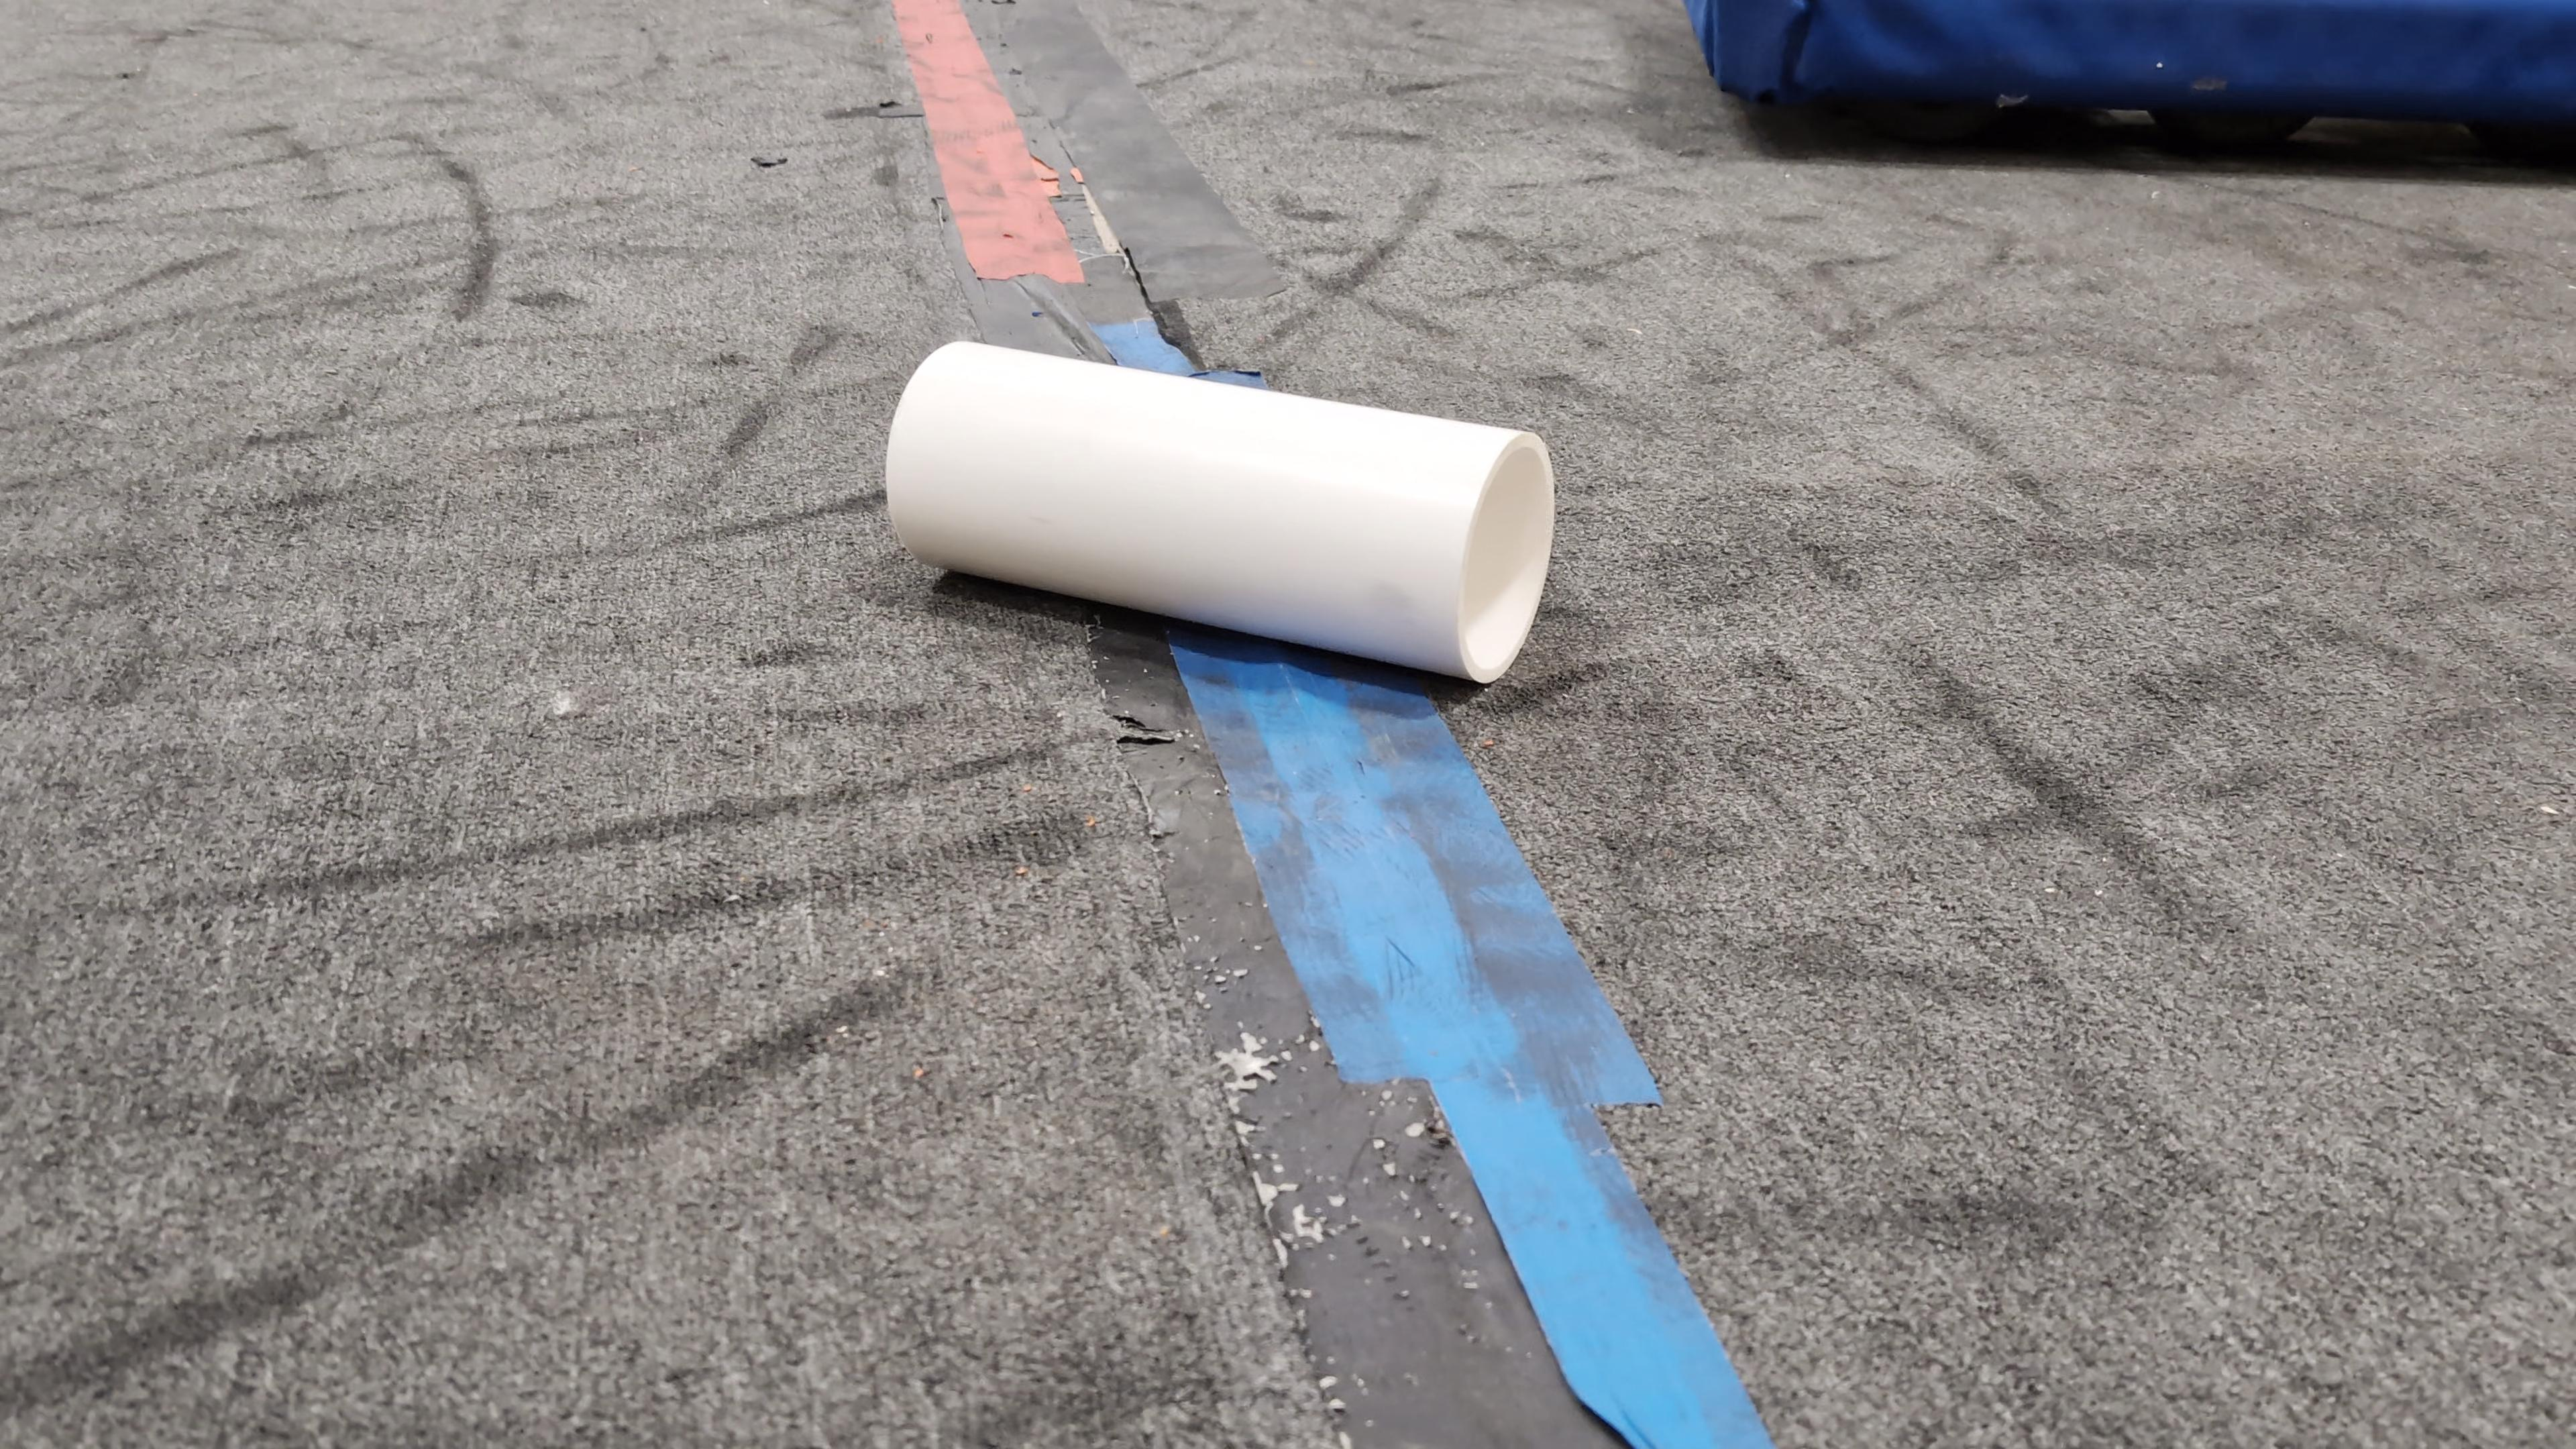coral: (888, 341, 1553, 685)
